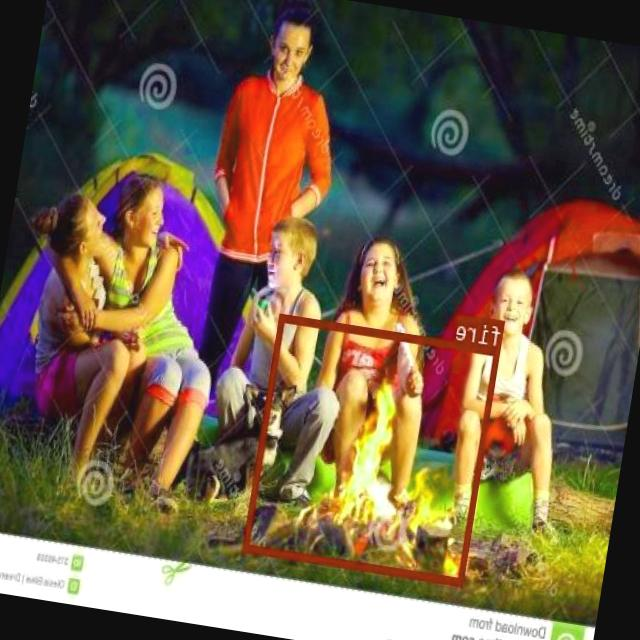fire: (244, 314, 502, 584)
